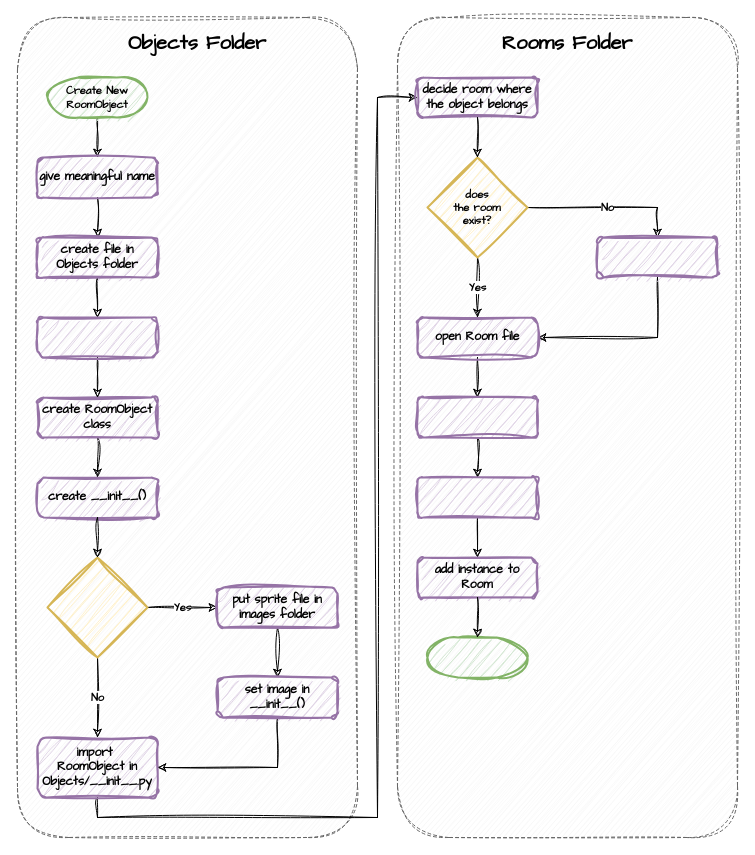
This 755x855 diagram has some shape labels left out. The shapes that lost their labels are listed below. From the top down, each one's centre as x and y in pixels, then its label:
pixel 657 257: create Room
pixel 97 337: import RoomObject
pixel 477 417: import Object class
pixel 477 497: create instance of object in __init__()
pixel 97 607: does the objcet have a sprite?
pixel 477 657: End
